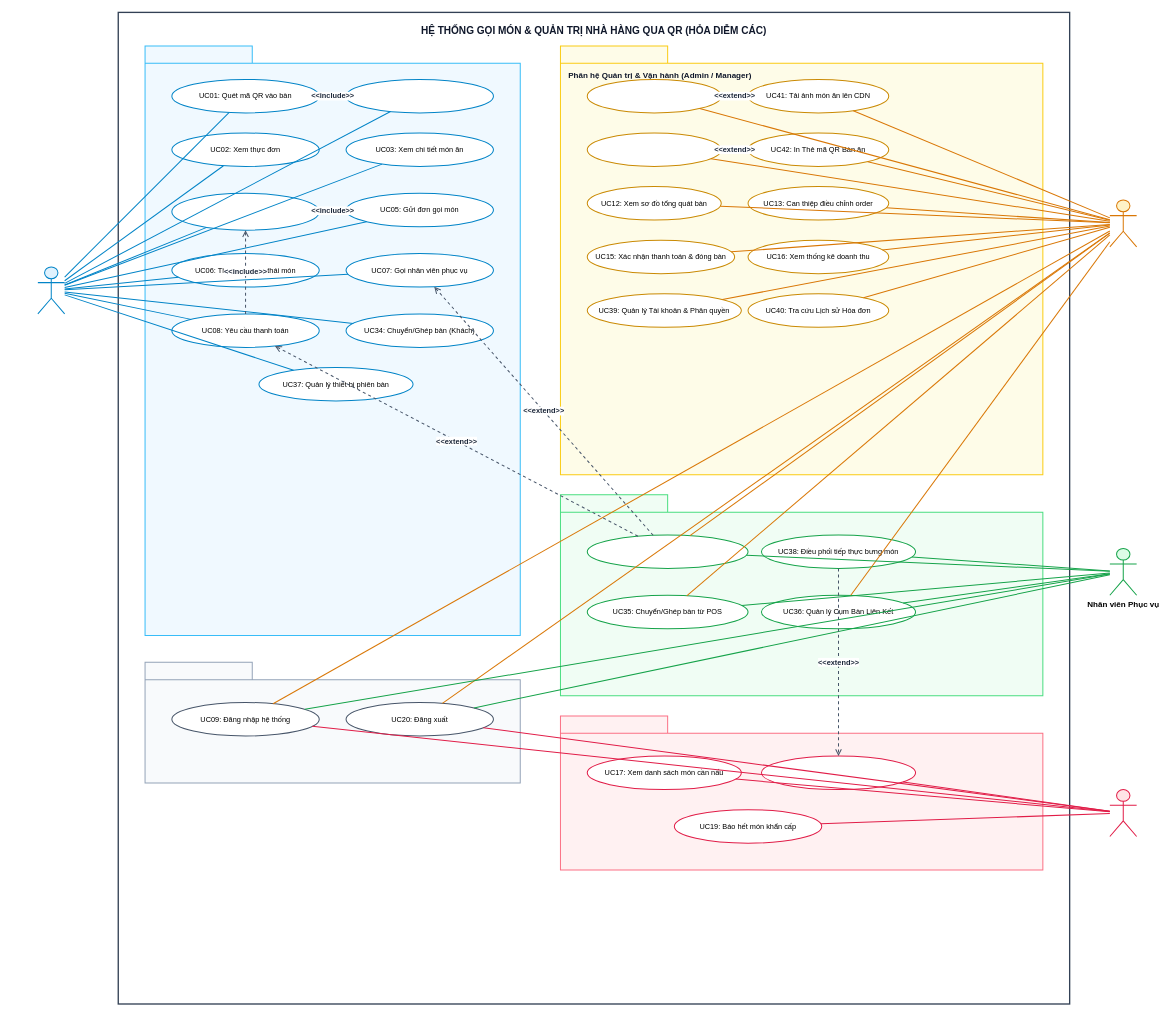
Some shapes in this 1171 by 1016 pixel diagram are drawn without their labels. The shapes that lost their labels are listed below. From the top down, each one's box as (x1, y1, x2, y2) in pixels, then its label:
(345, 79, 494, 113): UC33: Xác thực mật mã bàn (PIN)
(586, 79, 721, 113): UC10: Quản lý thực đơn
(586, 132, 721, 167): UC11: Quản lý bàn ăn
(171, 192, 319, 230): UC04: Quản lý giỏ hàng chung (Realtime Cart)
(1109, 199, 1137, 247): Quản lý / Admin
(37, 266, 65, 314): Khách hàng (tại bàn)
(144, 45, 520, 636): Phân hệ Khách hàng (Gọi món & Tiện ích)
(586, 534, 748, 569): UC14: Tiếp nhận gọi phục vụ/tính tiền
(560, 494, 1043, 696): Phân hệ Phục vụ Sảnh (Waiter POS)
(144, 661, 520, 783): Chức năng Dùng chung (Xác thực nhân sự)
(560, 715, 1043, 870): Phân hệ Bếp KDS (Kitchen Display System)
(761, 755, 916, 790): UC18: Cập nhật trạng thái chế biến
(1109, 789, 1137, 837): Nhân viên Bếp
